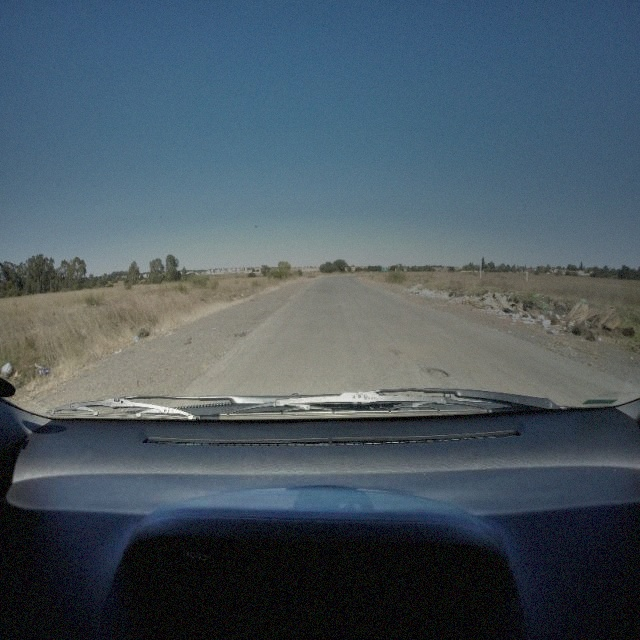pothole: (424, 364, 450, 378)
